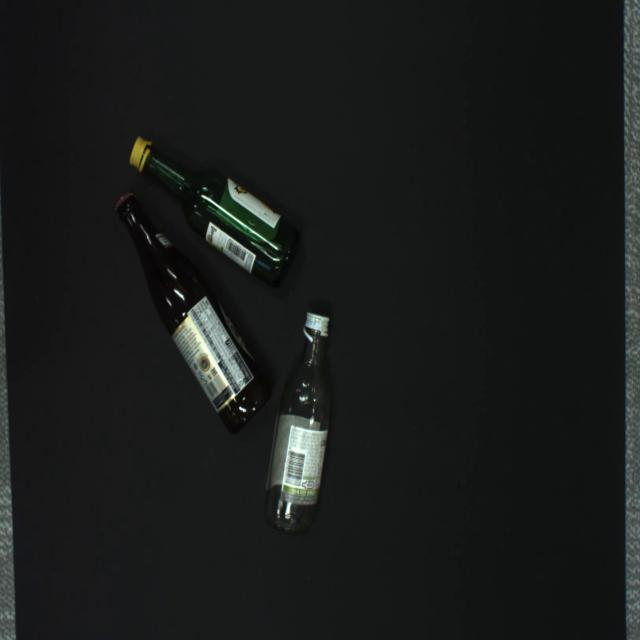beer-bottle: (115, 192, 271, 433)
soju-bottle: (130, 137, 299, 287), (264, 311, 331, 536)
